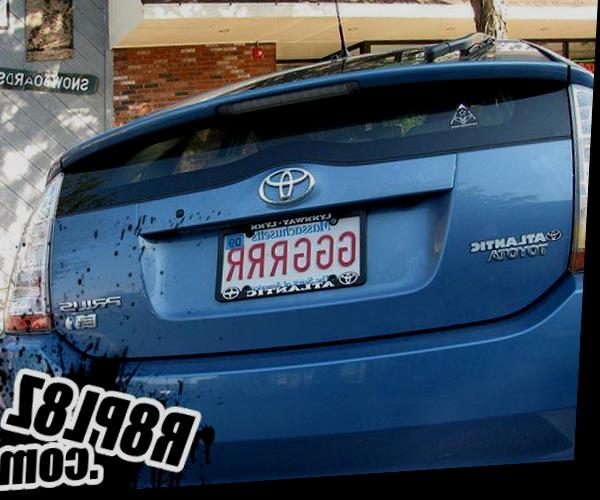License_Plate: (210, 186, 382, 315)
